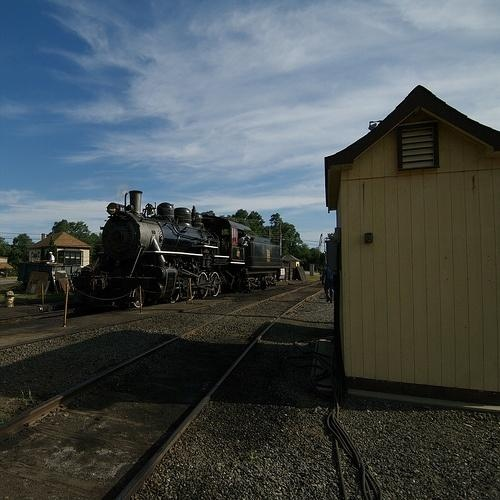train: (79, 188, 288, 310)
